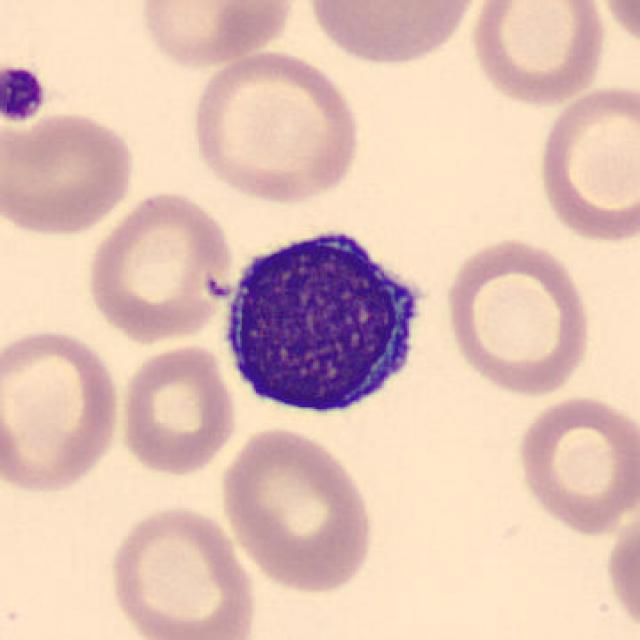Lymphocyte: (211, 216, 435, 426)
Platelets: (0, 64, 50, 125)
RBC: (215, 421, 379, 596), (185, 48, 366, 206), (439, 231, 596, 400), (82, 187, 238, 345), (0, 324, 126, 498), (104, 500, 259, 640), (510, 391, 638, 538), (0, 106, 139, 240), (532, 79, 638, 247), (116, 342, 240, 478), (466, 0, 612, 108), (301, 0, 487, 69), (135, 0, 299, 71), (602, 497, 640, 636), (595, 0, 640, 53)
